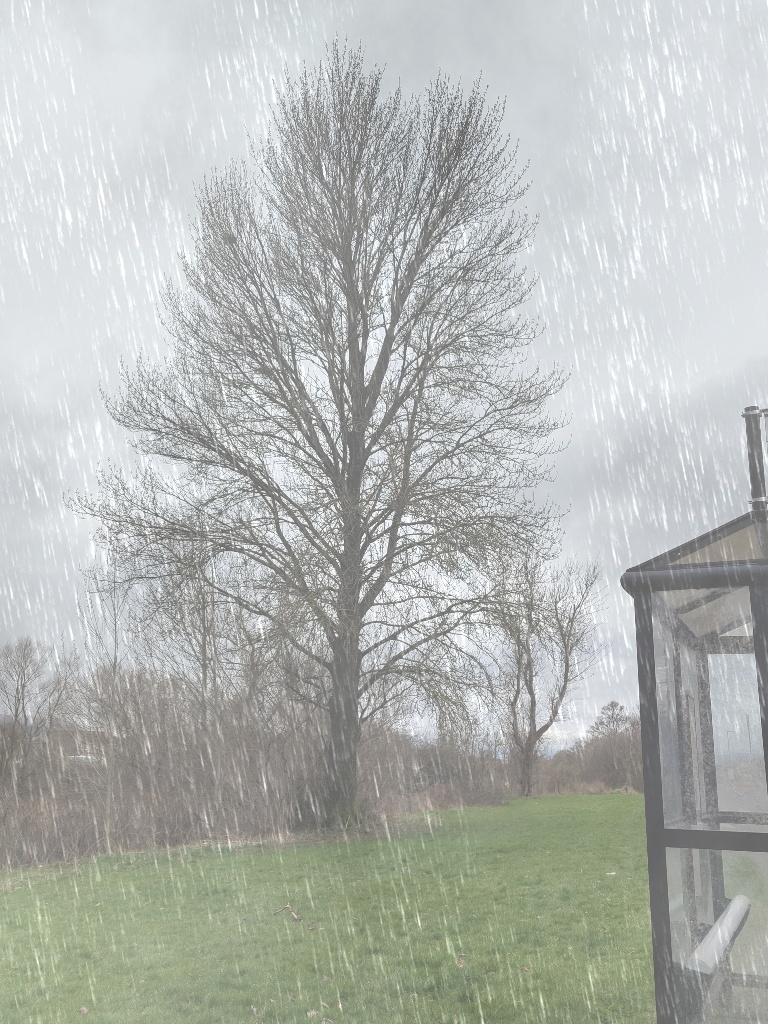Tree: (57, 25, 572, 832), (507, 550, 617, 796)
